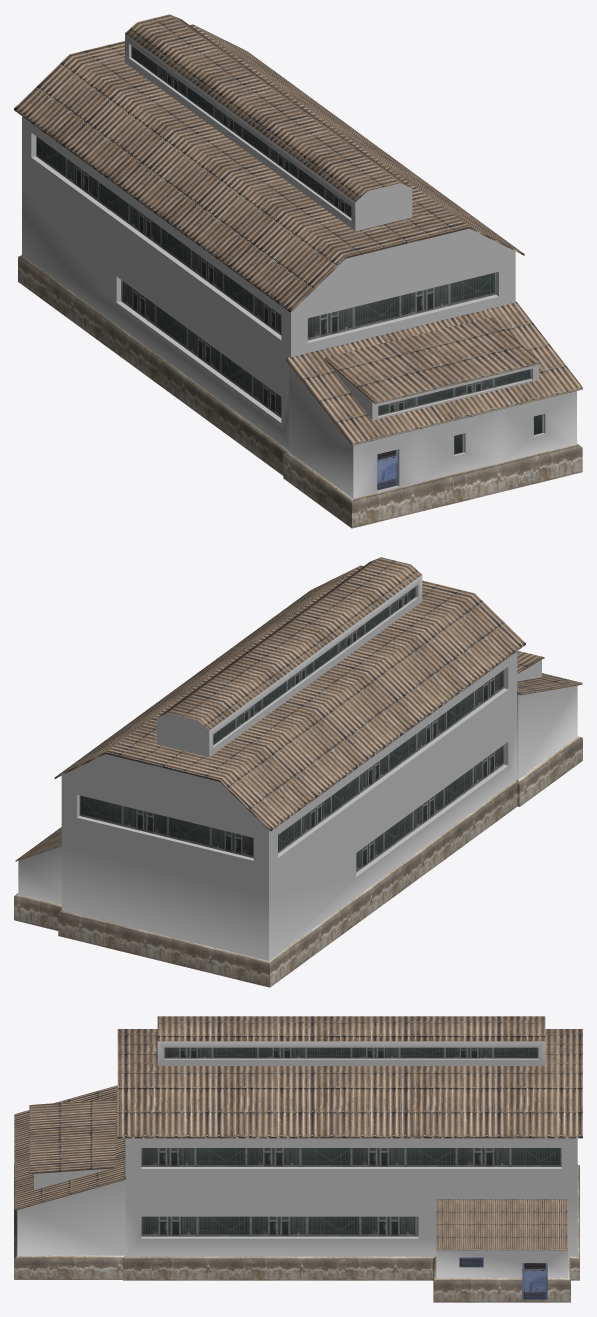
Rendered from building7_lod2.fbx.
3 views of the same model, one above another, from view 1: azimuth 30°, elevation 25°; view 2: azimuth 150°, elevation 25°; view 3: azimuth 270°, elevation 25° (orthographic). The views are drawn at different scales.
Parts seen in each view (by area): view 1: Mesh Object; view 2: Mesh Object; view 3: Mesh Object.
Part boxes in pixels (left/top/right/bottom): Mesh Object: left=14, top=14, right=582, bottom=528; Mesh Object: left=14, top=557, right=582, bottom=987; Mesh Object: left=14, top=1016, right=582, bottom=1302.
Size of the model in its own units: 16.31 by 13.68 by 33.45.
